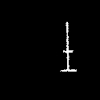double_crochet: (61, 22, 75, 70)
